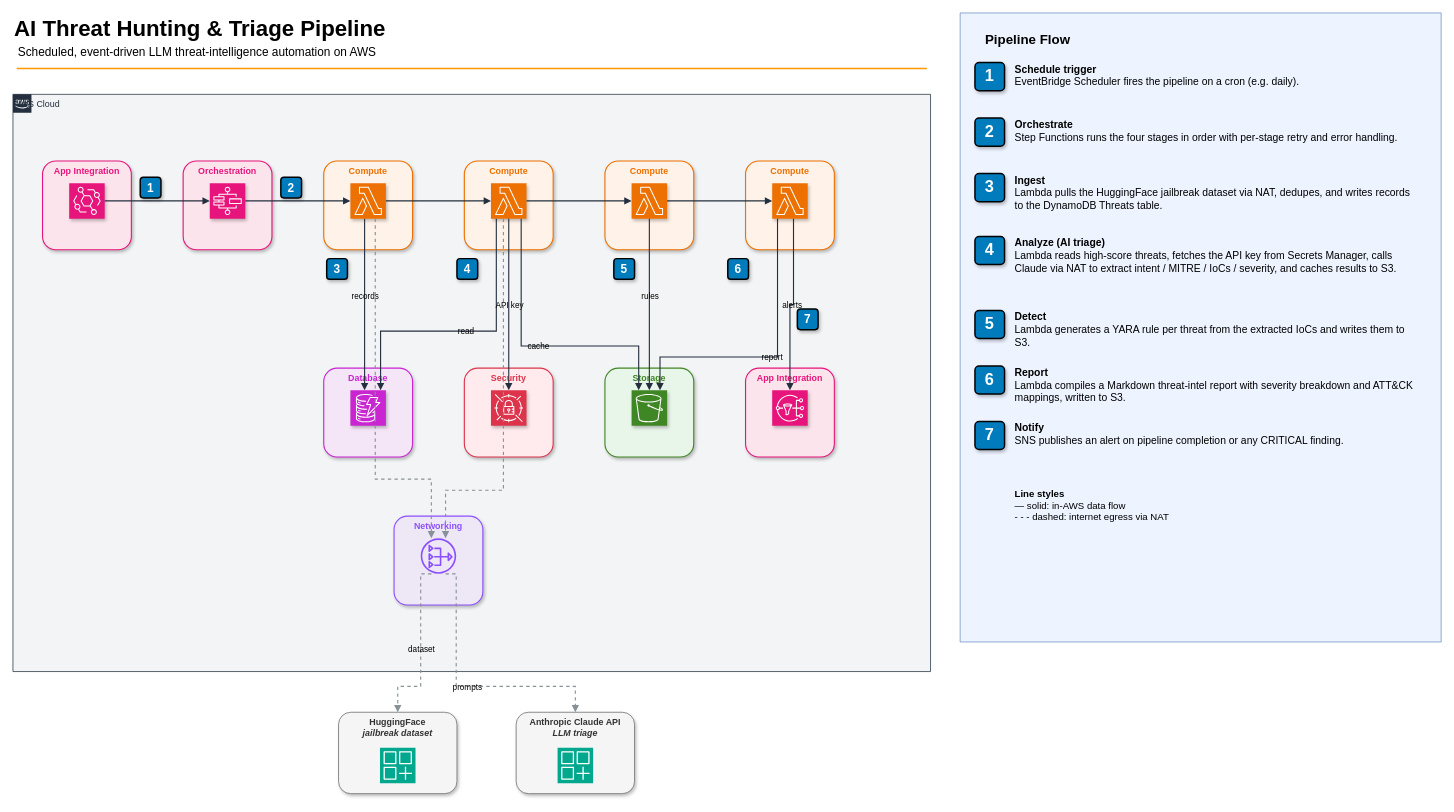
The diagram is 1454 pixels wide and 812 high, and some of its shapes have lost their labels. Here are the shapes that lost their labels. From the top down, the centre of each, then its label:
At (87,201): "EventBridge Scheduler (cron)".
At (228,201): "Step Functions orchestrator".
At (368,201): "AWS Lambda ingest".
At (509,201): "AWS Lambda analyze".
At (650,201): "AWS Lambda detect (YARA)".
At (790,201): "AWS Lambda report".
At (368,409): "DynamoDB Threats table".
At (509,409): "Secrets Manager ANTHROPIC_API_KEY".
At (650,409): "Amazon S3 cache, rules, reports".
At (790,409): "Amazon SNS alerts".
At (438,556): "NAT Gateway egress".
